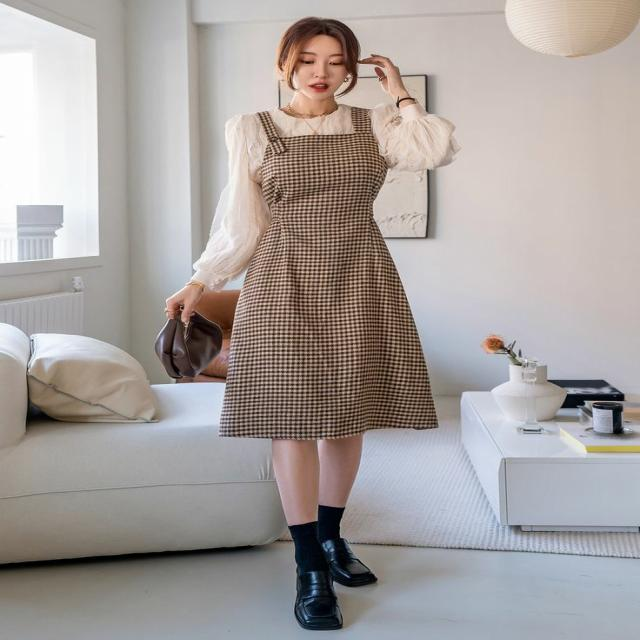female-dress: (198, 96, 452, 453)
